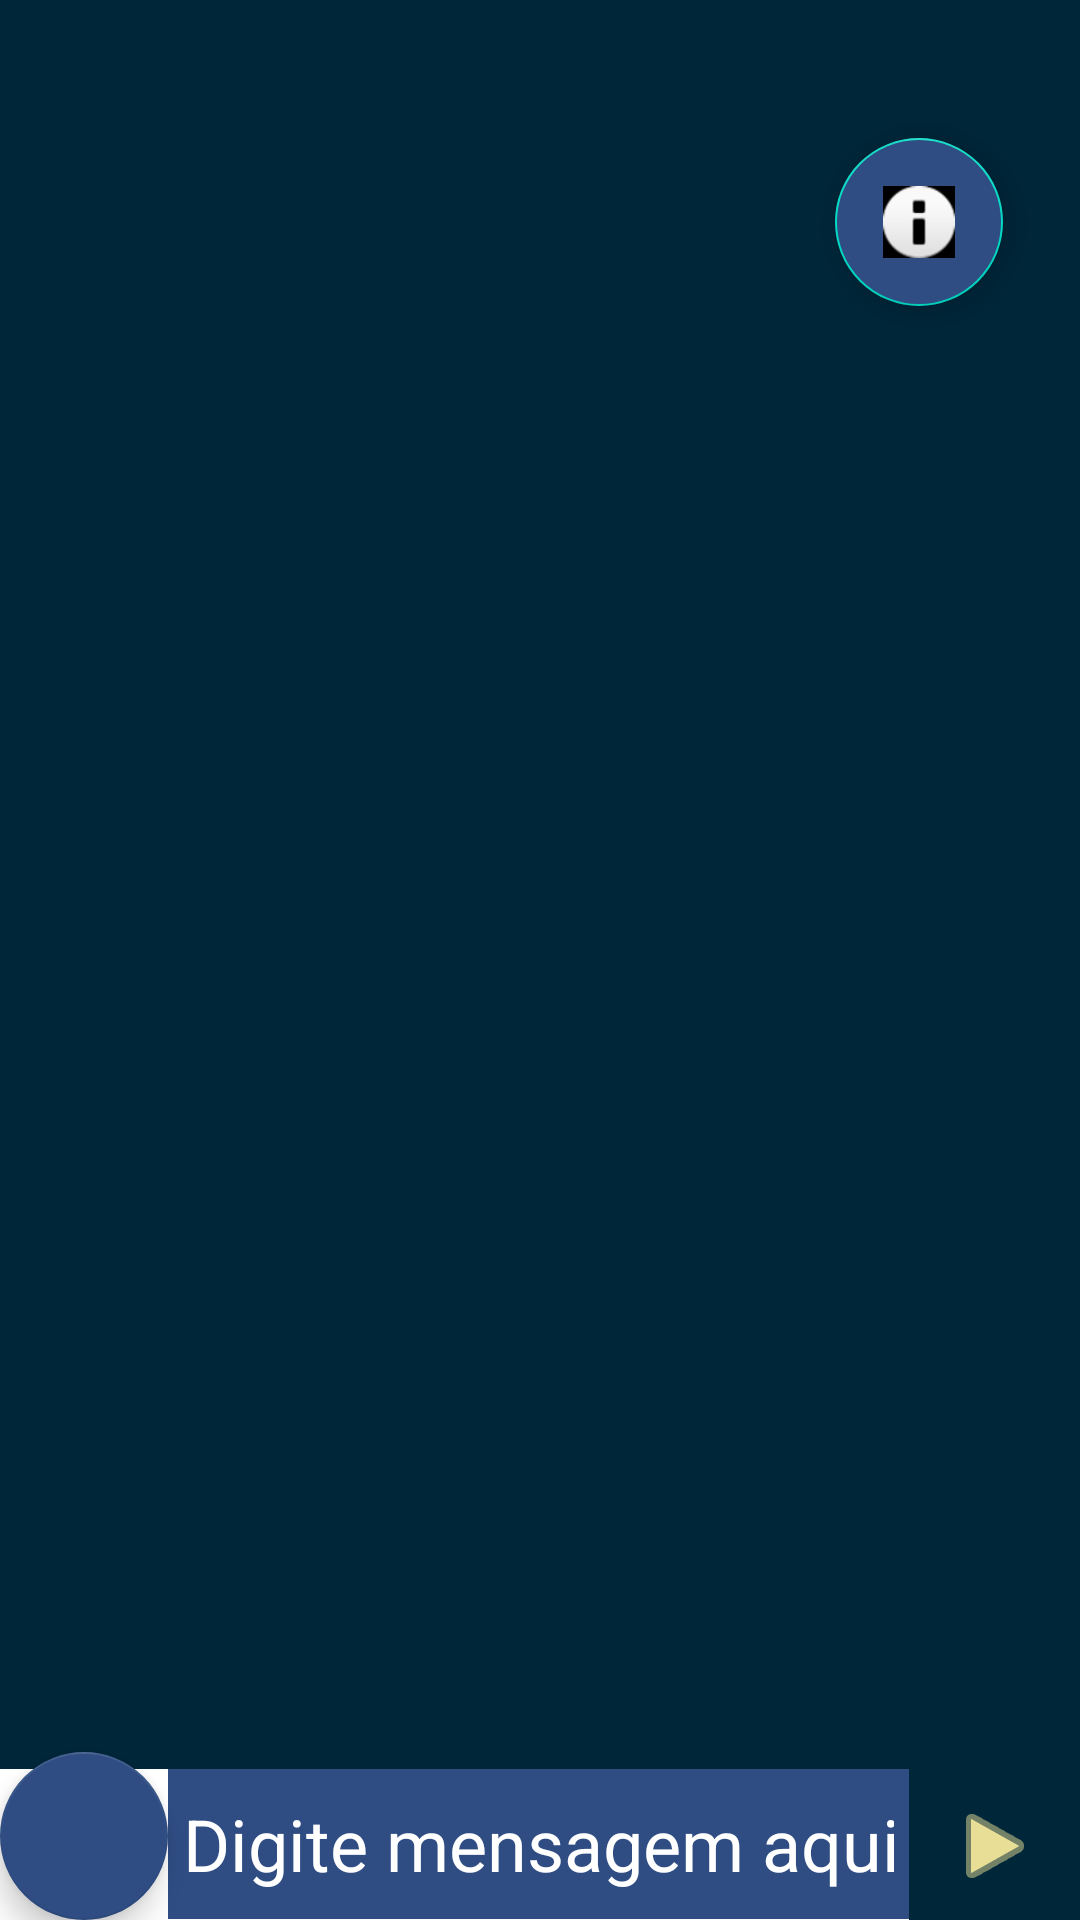

Icon bounding boxes for this 1080x1920 phone screenshot, format detection(x1, y1, x2, y2):
info: detection(835, 138, 1003, 306)
play: detection(966, 1814, 1024, 1878)
